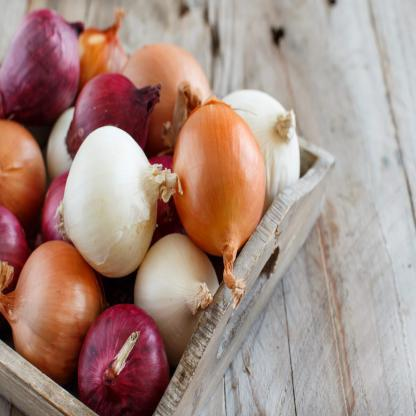onion: (166, 84, 268, 252), (6, 233, 102, 392), (63, 135, 157, 276), (135, 210, 222, 354)
